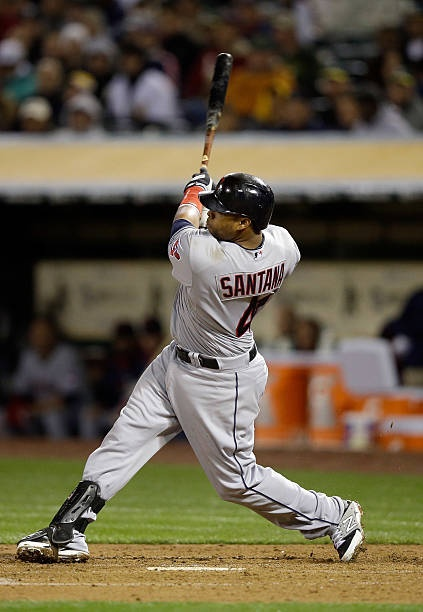bita: (195, 45, 240, 176)
